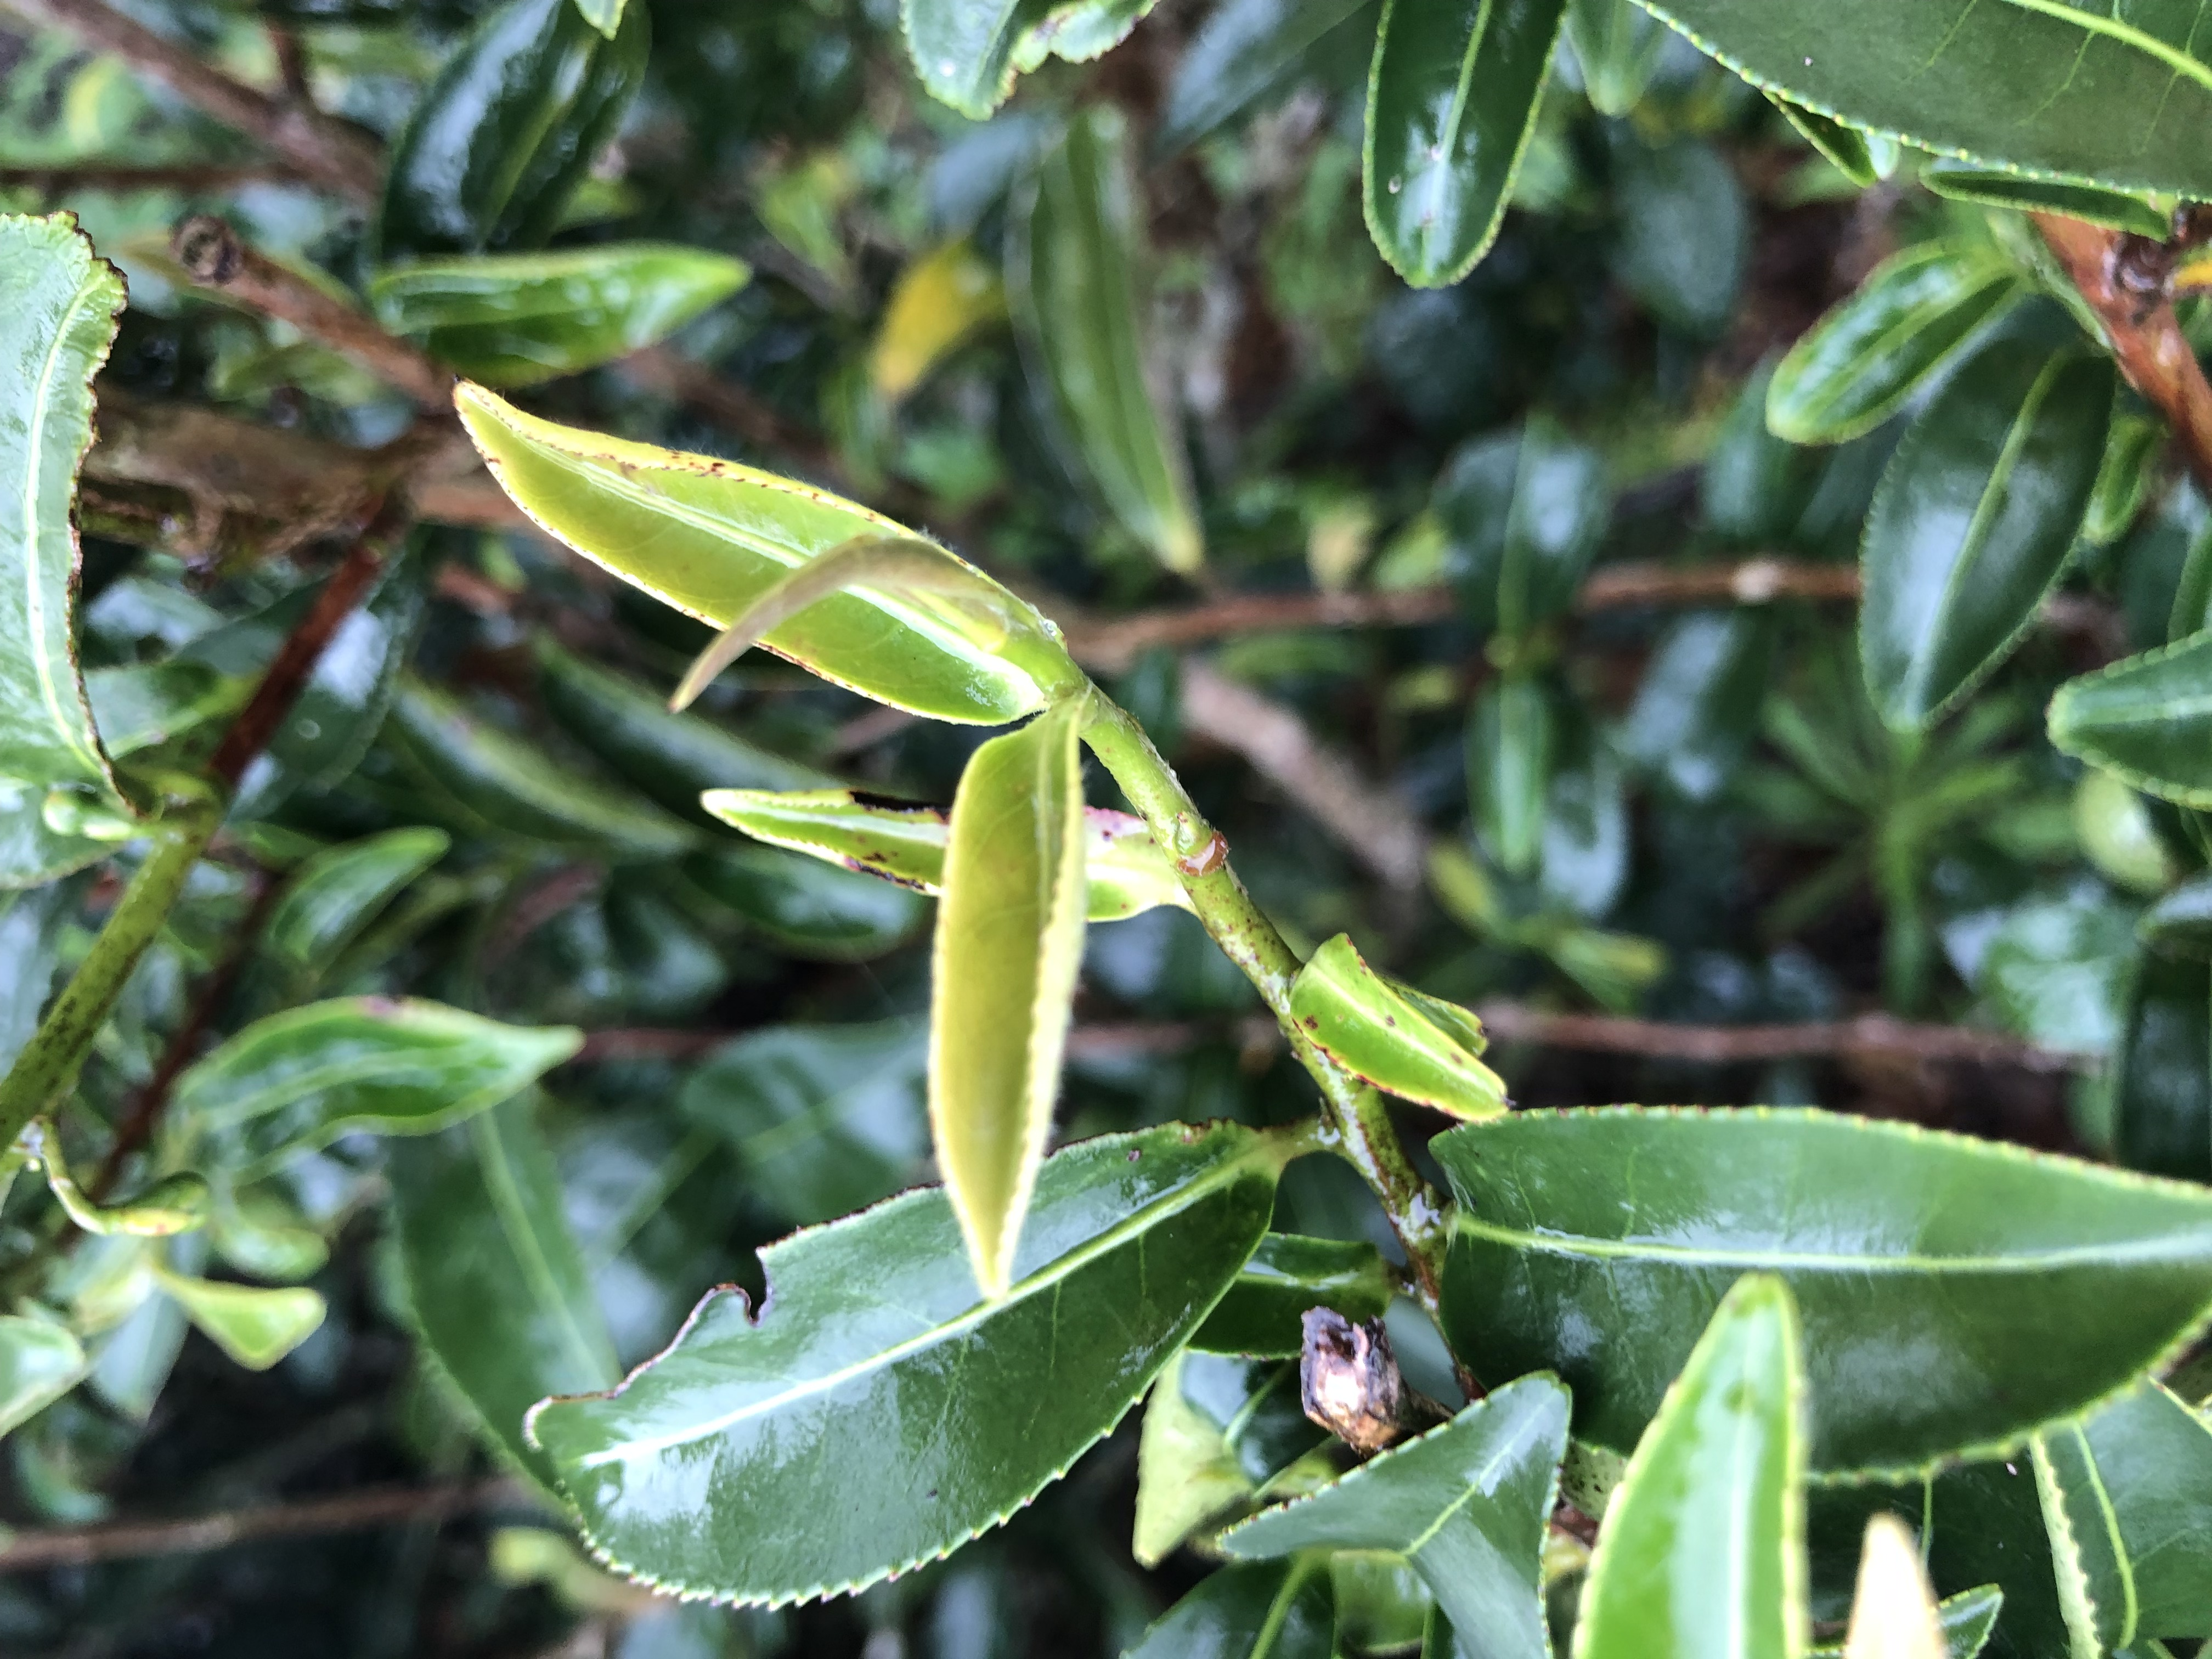formosa: (435, 389, 1061, 692), (921, 706, 1101, 1295)
